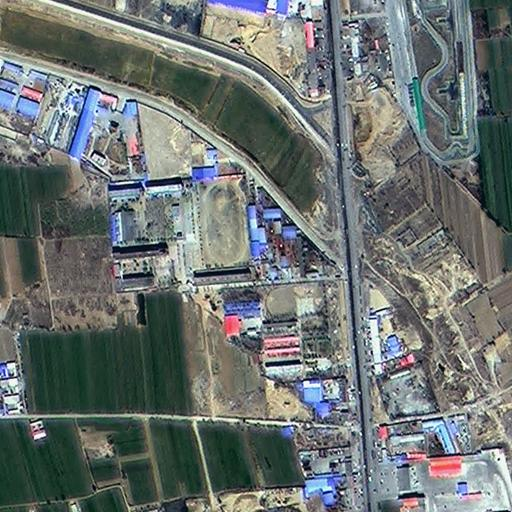school: (220, 279, 351, 420), (110, 175, 257, 292)
